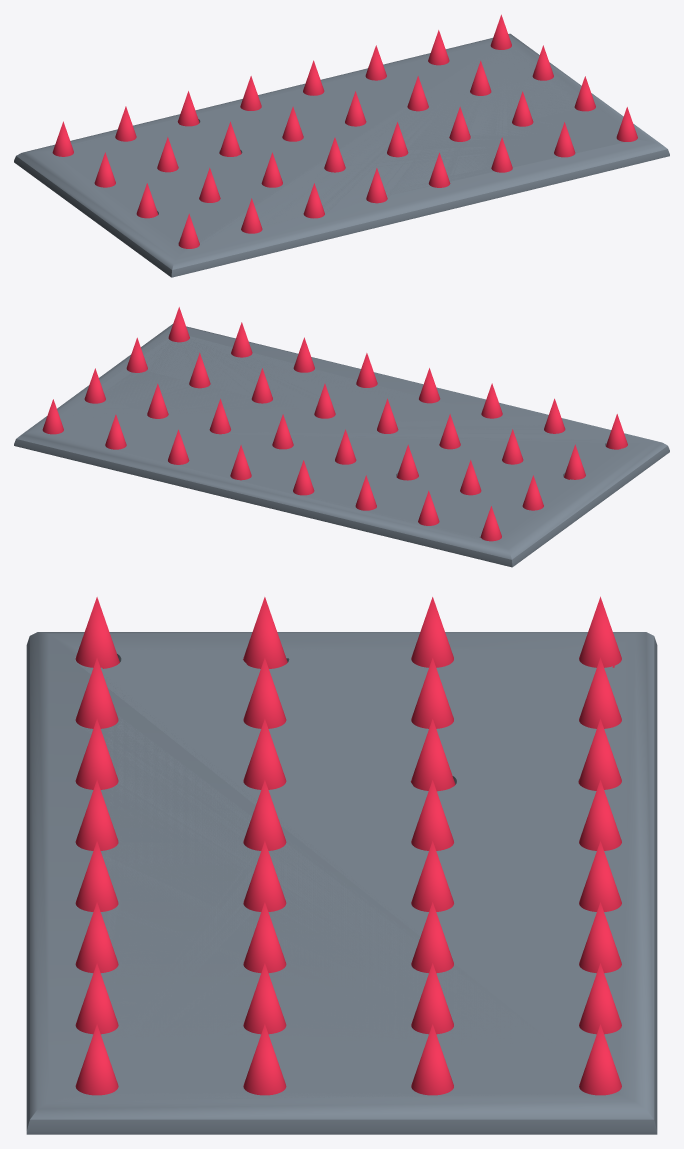
Rendered from SpikeObstacle.fbx.
3 renders of one model, top to bottom at view 1: azimuth 30°, elevation 25°; view 2: azimuth 150°, elevation 25°; view 3: azimuth 270°, elevation 25°, orthographic. The views are drawn at different scales.
Parts seen in each view (by area): view 1: Cube.001, Cylinder.001; view 2: Cube.001, Cylinder.001; view 3: Cube.001, Cylinder.001.
Part boxes in pixels (x1,y1,x2,y2): Cube.001: (14, 33, 669, 277); Cylinder.001: (52, 14, 637, 248); Cube.001: (14, 324, 669, 567); Cylinder.001: (42, 307, 627, 541); Cube.001: (26, 632, 657, 1134); Cylinder.001: (75, 596, 621, 1095).
Bounding box in the file's own units: 87.33 × 7.31 × 47.83.
2 materials, 2 textured.
